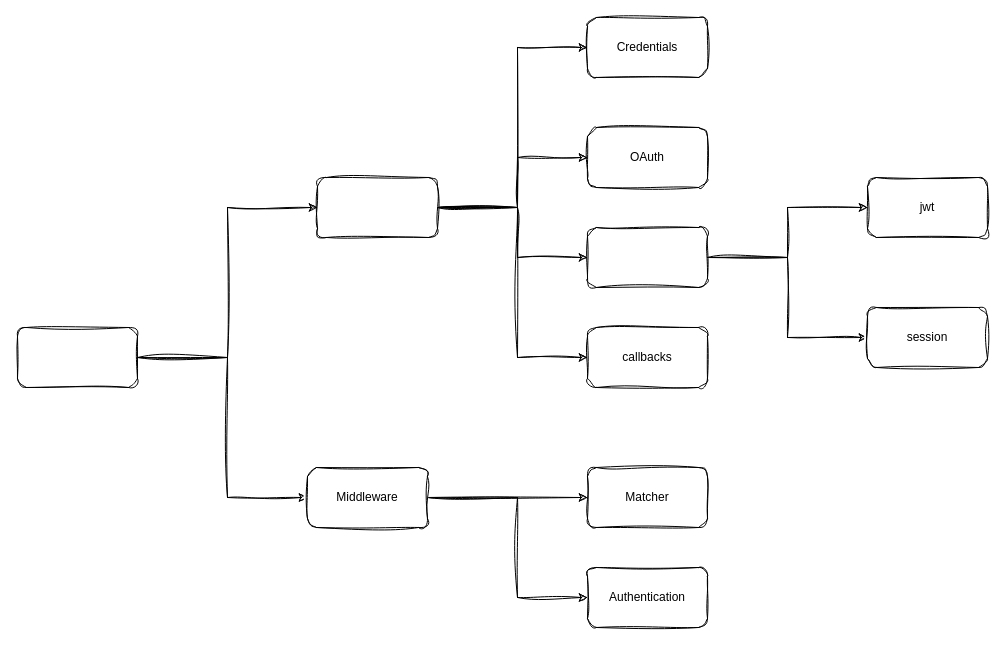
This 1005x645 diagram has some shape labels left out. The shapes that lost their labels are listed below. From the top down, each one's centre as x and y in pixels, then its label:
At [377,207]: "Provider".
At [647,257]: "strategy".
At [77,357]: "Next_Auth".
